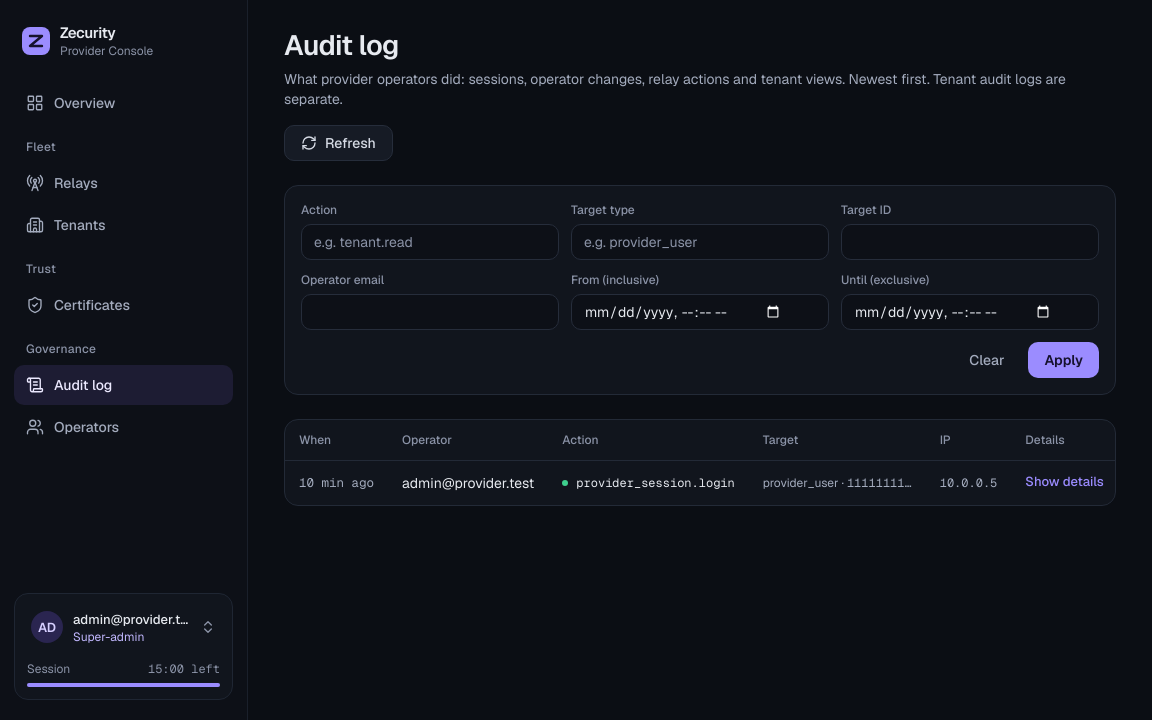
Test: Audit: details › details value true renders as its JSON text
Expected: the table named "Audit entries" is shown, [285, 420, 1115, 504]
Step 1. Click the button "Show details" → {"x": 1065, "y": 482}, box [1025, 473, 1104, 492]
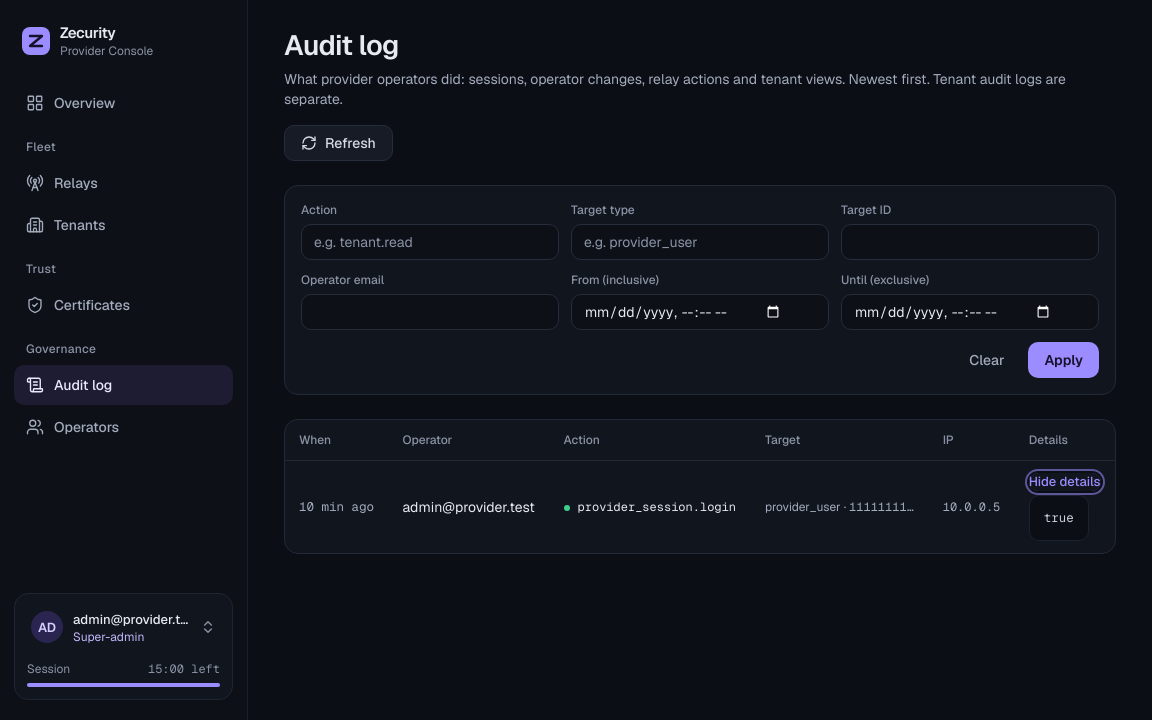
Expected: the text named "Details JSON" reads "true", [1044, 509, 1074, 526]
